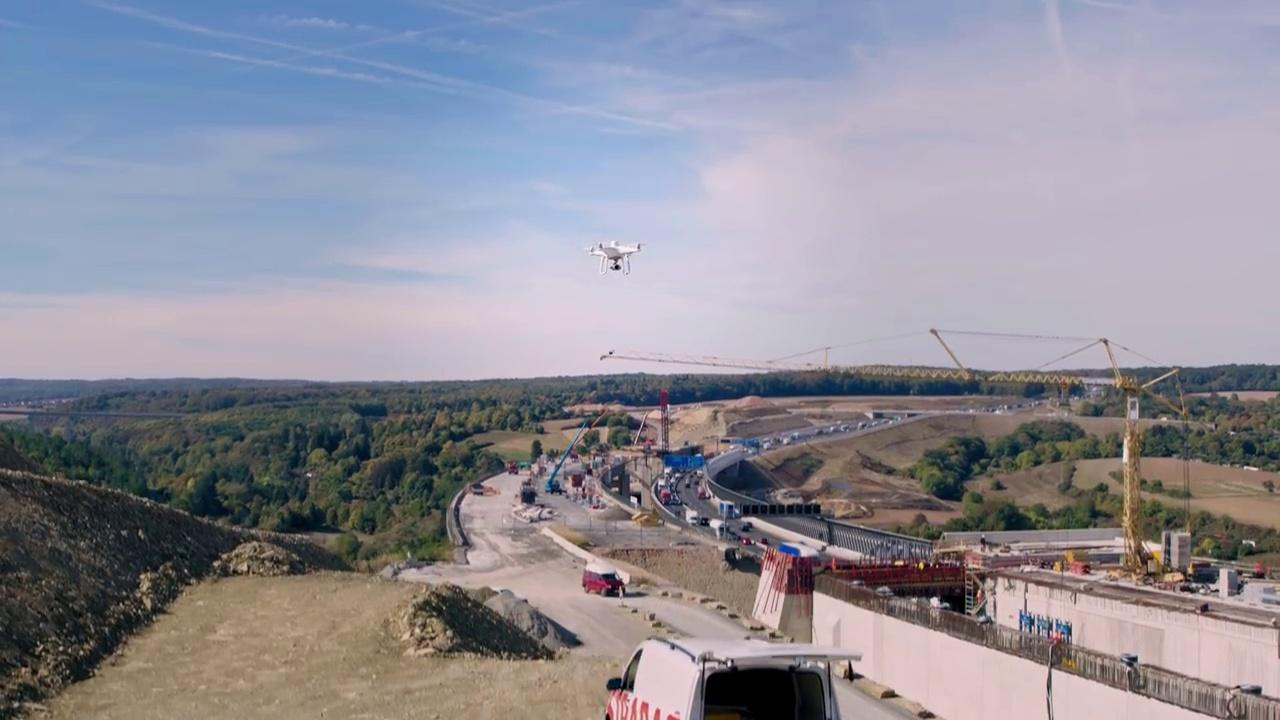drone: (582, 235, 650, 279)
